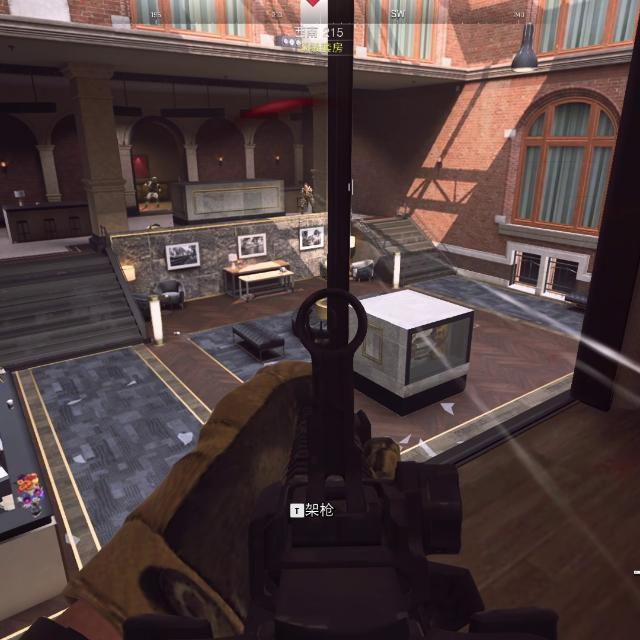MW2_body: (144, 177, 161, 210), (300, 184, 315, 214)
